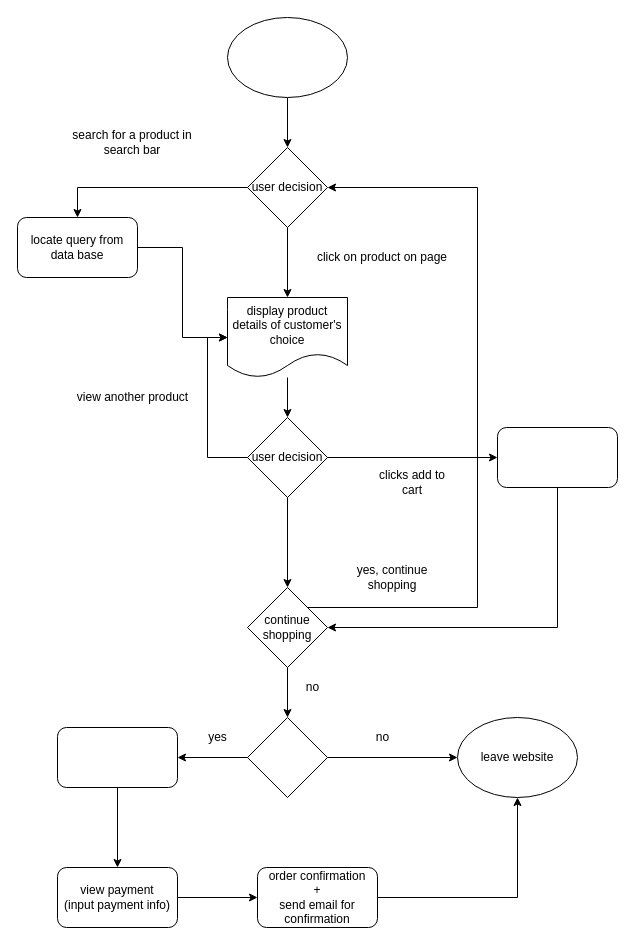
This 635x945 diagram has some shape labels left out. The centre of each missing label's shape, as x and y in pixels:
check out: the point at 287,757
display add to cart confirmation: the point at 557,457
user enter site: the point at 287,57
view cart: the point at 117,757
